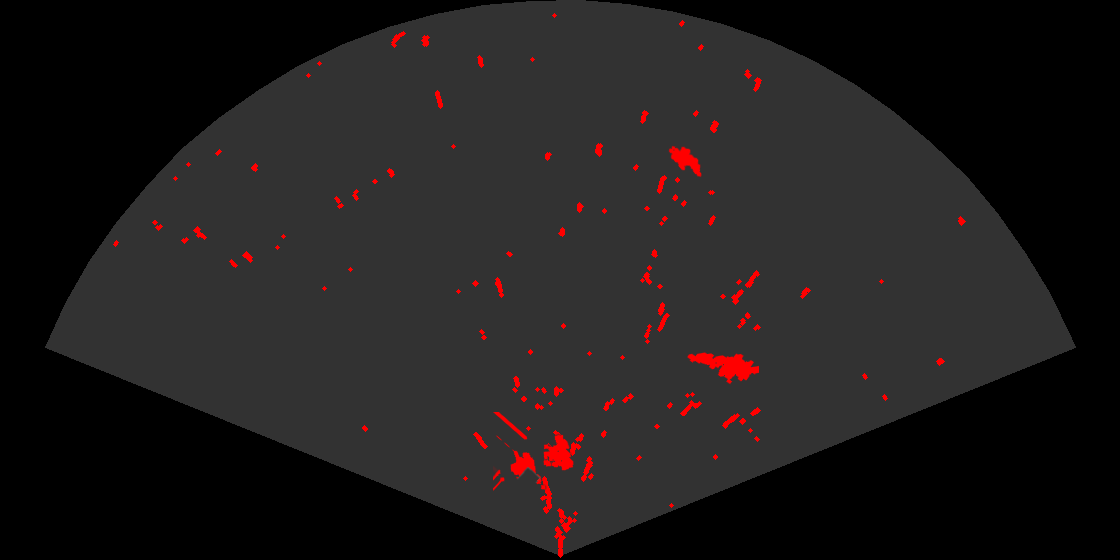AUV: (667, 144, 703, 179)
cage: (493, 412, 575, 492)
frogman: (686, 351, 759, 386)
